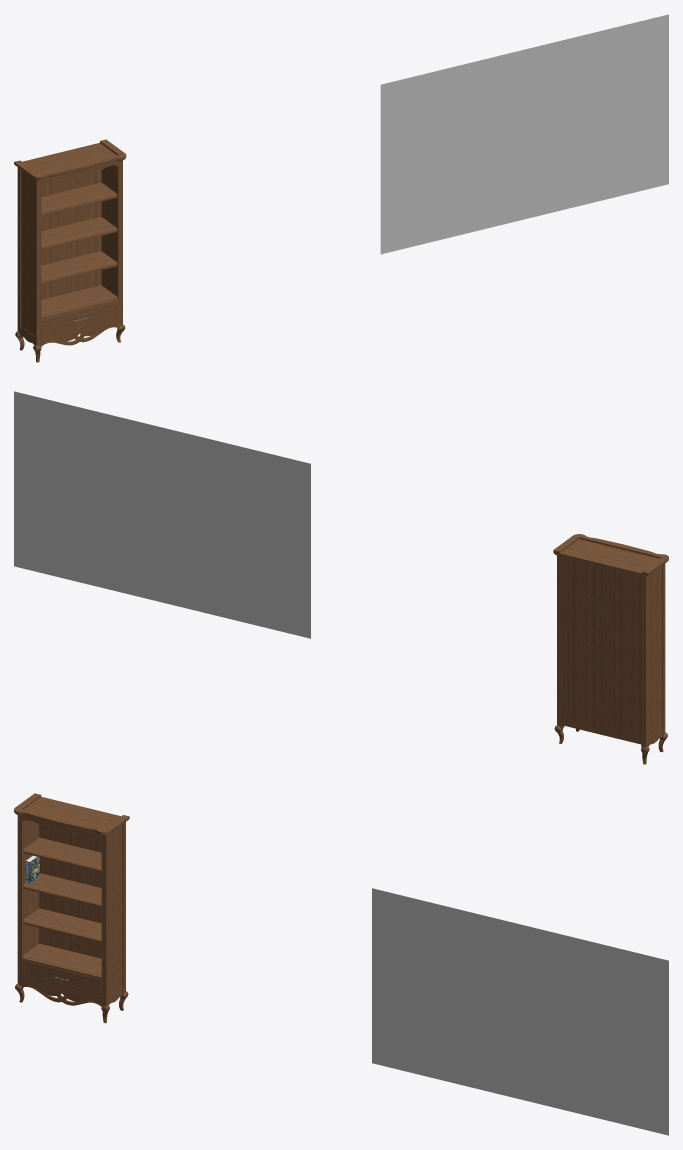
3 renders of one model, top to bottom at view 1: azimuth 30°, elevation 25°; view 2: azimuth 150°, elevation 25°; view 3: azimuth 330°, elevation 25°, orthographic. The views are drawn at different scales.
Parts seen in each view (by area): view 1: image_0, group_0 (×9); view 2: image_0, group_0 (×2); view 3: image_0, group_0 (×9).
Part boxes in pixels (<box>): image_0: <box>380,14,668,254</box>; group_0 (×9): <box>14,139,126,362</box>; image_0: <box>14,391,310,638</box>; group_0 (×2): <box>553,534,668,764</box>; image_0: <box>372,888,668,1135</box>; group_0 (×9): <box>14,793,129,1023</box>.
Size of the model in its own units: 279 by 17.41 by 81.94.
7 materials, 4 textured.
